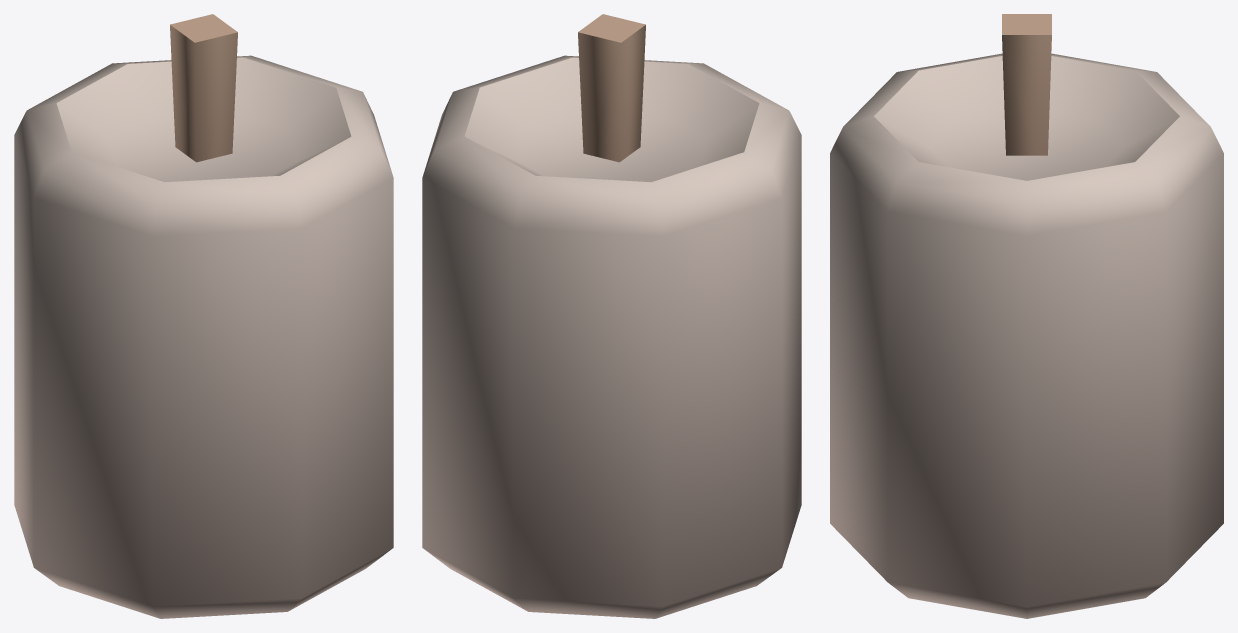
The model's file is candle-tall.glb.
The picture shows the model from 3 angles, left to right: view 1: azimuth 30°, elevation 25°; view 2: azimuth 150°, elevation 25°; view 3: azimuth 270°, elevation 25°; orthographic projection.
Parts seen in each view (by area): view 1: candle-tall; view 2: candle-tall; view 3: candle-tall.
Part boxes in pixels (x1,y1,x2,y2): candle-tall: (14, 14, 393, 618); candle-tall: (422, 14, 801, 618); candle-tall: (830, 14, 1223, 618).
Bounding box in the file's own units: 0.1459 × 0.2141 × 0.1459.
